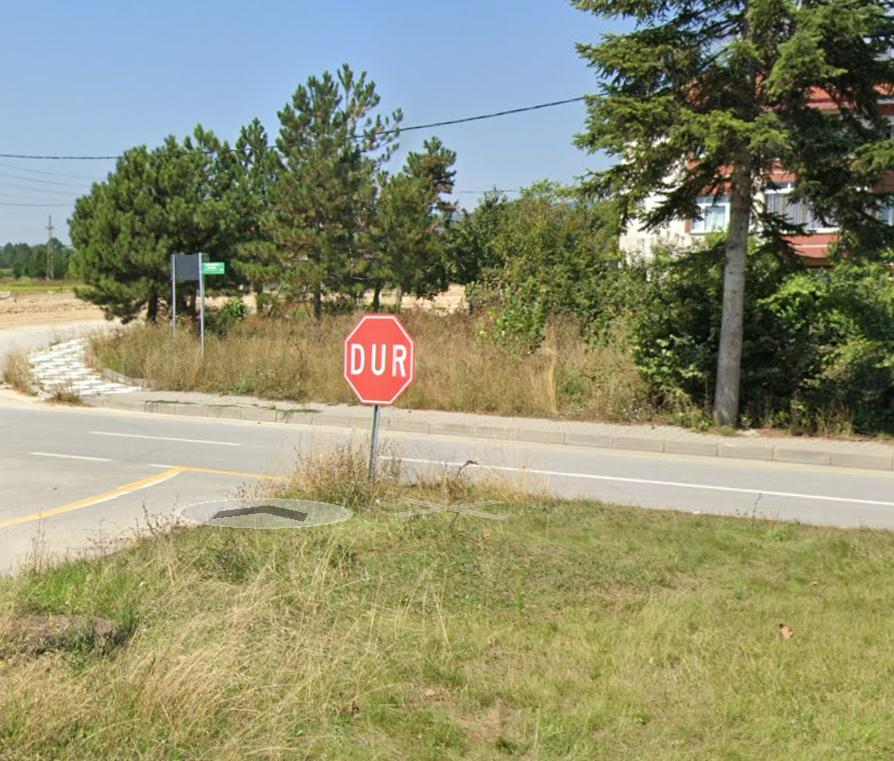stop: (349, 317, 411, 402)
